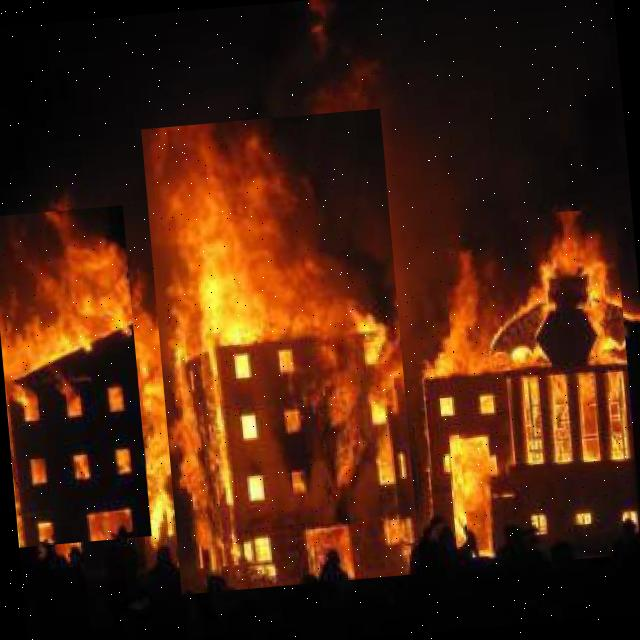fire: (140, 108, 420, 594), (439, 207, 640, 568), (0, 205, 151, 547)
